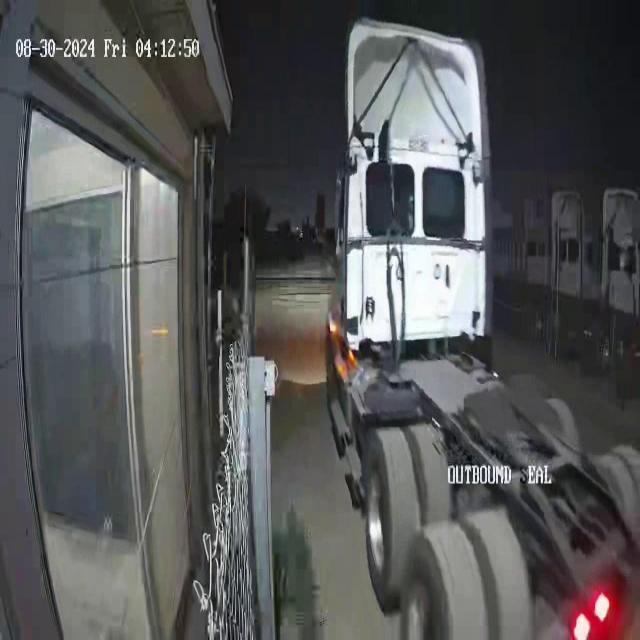TRUCK_OUT: (323, 16, 639, 638)
